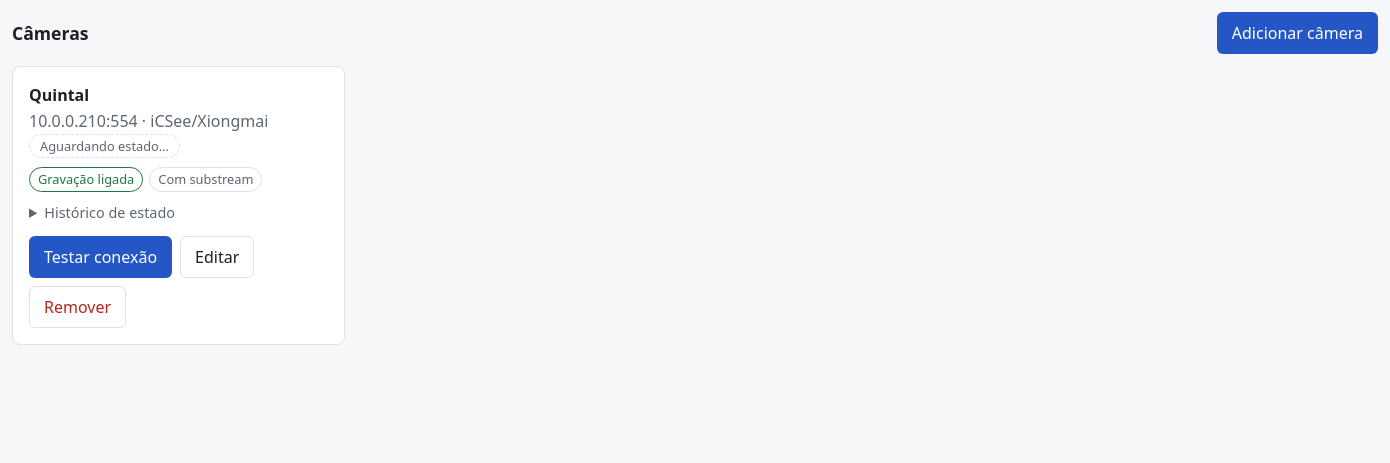
Test: CamerasPage › testar conexão mostra o resultado de cada perfil
Click the button "Testar conexão" at (101, 257), box top-left (29, 236), bottom-right (172, 278)
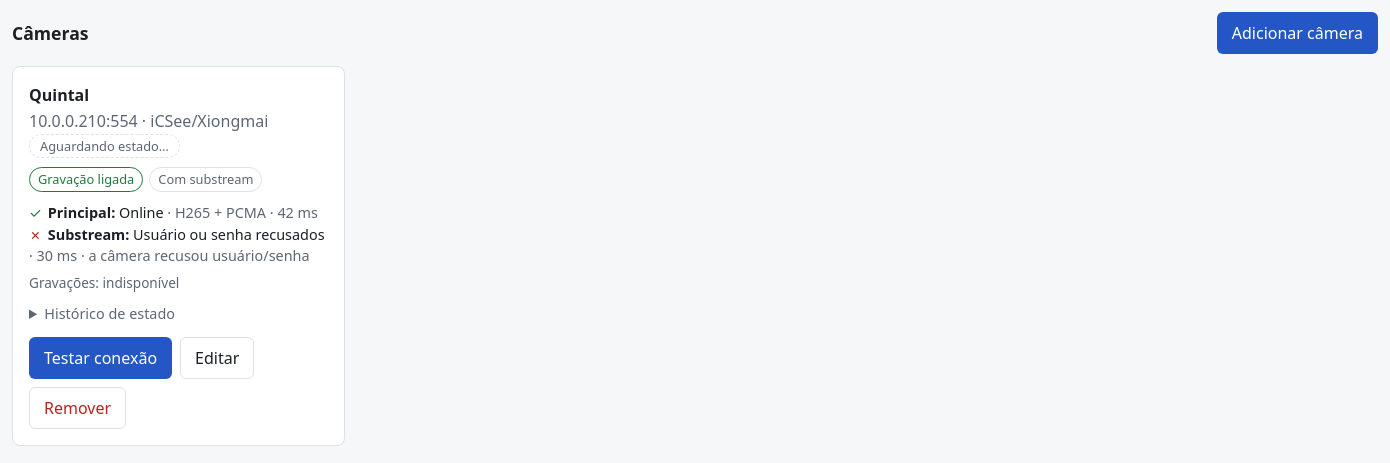
Check: the list named "Resultado do teste" shows "Substream: Usuário ou senha recusados", box top-left (29, 202), bottom-right (328, 267)
